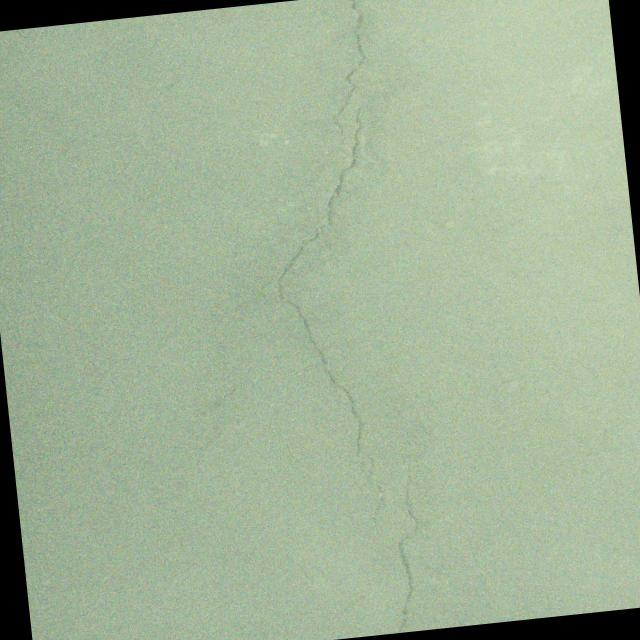crack: (190, 100, 409, 550), (45, 384, 242, 467), (375, 433, 431, 634), (319, 0, 377, 139)
